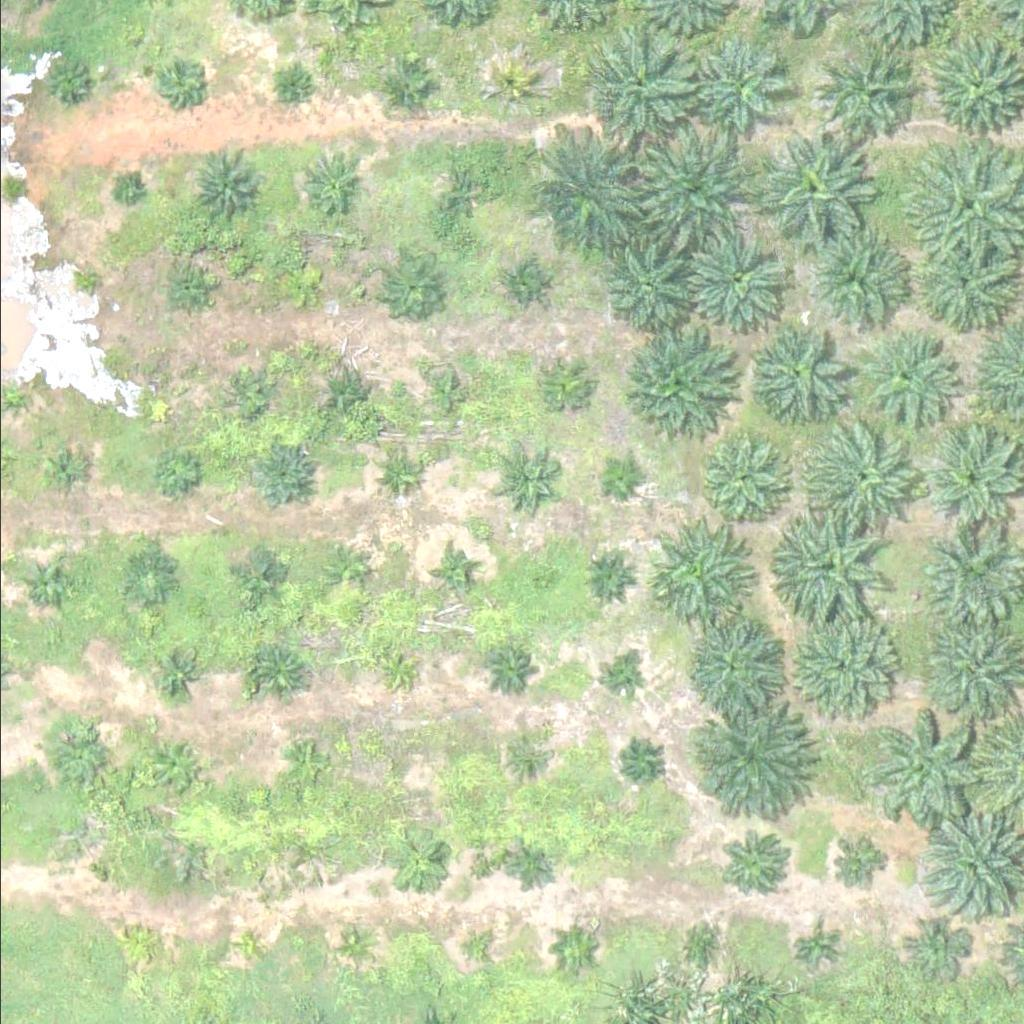Kelapa_Sawit: (765, 507, 891, 632), (799, 415, 925, 540), (634, 125, 760, 250), (523, 133, 649, 258), (685, 703, 810, 828), (615, 324, 729, 437), (870, 715, 983, 828), (784, 604, 897, 717), (578, 33, 691, 146), (685, 225, 799, 337), (765, 135, 879, 247), (910, 812, 1023, 924), (634, 513, 747, 625), (685, 614, 786, 714), (920, 620, 1021, 720), (921, 519, 1022, 619), (918, 429, 1019, 529), (691, 428, 792, 528), (855, 329, 956, 429), (922, 231, 1023, 331), (689, 37, 790, 137), (747, 321, 847, 421), (808, 234, 908, 334), (820, 43, 920, 143), (600, 243, 688, 331), (187, 147, 263, 222), (719, 827, 794, 902), (486, 445, 549, 508), (532, 351, 595, 414), (48, 718, 111, 781), (250, 447, 313, 510), (904, 914, 967, 977), (415, 362, 478, 425), (377, 255, 440, 317), (298, 155, 361, 217), (246, 642, 309, 704), (145, 736, 208, 798), (385, 832, 448, 894), (428, 159, 491, 221), (123, 554, 174, 604), (241, 552, 292, 602), (319, 372, 370, 422), (826, 841, 877, 891), (376, 448, 427, 498), (225, 373, 276, 423), (498, 252, 549, 302), (279, 261, 330, 311), (152, 449, 203, 499), (152, 647, 203, 697), (20, 559, 71, 609), (382, 62, 432, 112), (584, 552, 634, 602), (486, 646, 536, 696), (507, 842, 557, 892), (282, 742, 332, 792), (322, 545, 372, 595), (589, 453, 639, 503), (159, 267, 209, 317), (36, 444, 86, 494), (153, 56, 203, 106), (39, 59, 89, 109), (482, 63, 532, 113), (554, 936, 592, 974), (626, 743, 664, 781), (453, 929, 491, 967), (334, 927, 372, 965), (227, 929, 265, 967), (127, 925, 165, 963), (380, 651, 418, 689), (435, 554, 473, 592), (600, 660, 638, 697), (502, 737, 540, 774), (373, 749, 411, 786), (75, 832, 113, 869), (793, 927, 830, 964), (683, 931, 720, 968), (114, 176, 140, 201), (4, 381, 29, 406), (77, 269, 102, 294), (279, 77, 304, 102)
